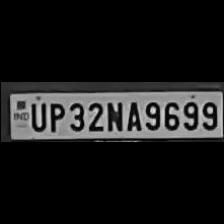2: (84, 99, 104, 131)
3: (65, 99, 83, 131)
6: (160, 99, 180, 131)
9: (140, 97, 160, 130), (198, 98, 218, 130), (180, 98, 198, 130)
A: (122, 98, 140, 132)
N: (104, 99, 124, 131)
P: (46, 100, 64, 132)
U: (27, 99, 46, 130)
